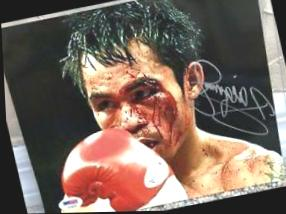Fire: (88, 61, 194, 151)
